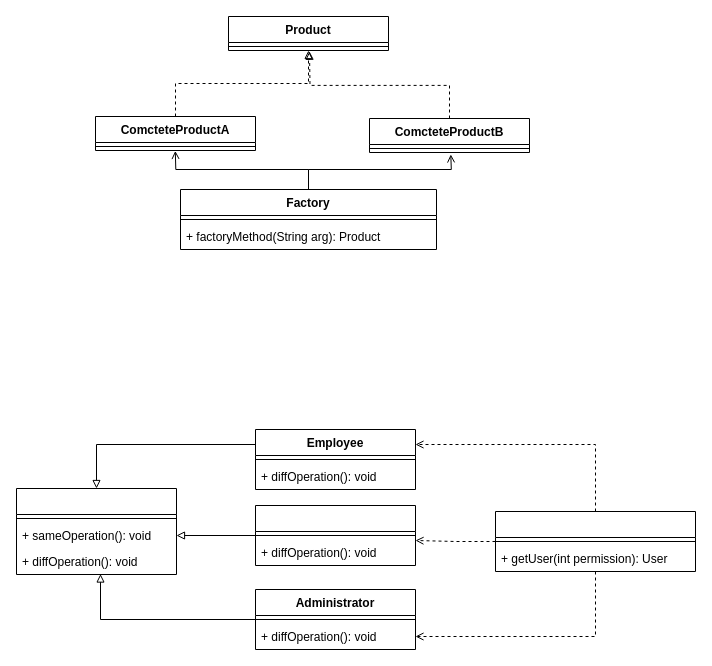
The diagram is 712 pixels wide and 666 high, and some of its shapes have lost their labels. The shapes that lost their labels are listed below. From the top down, each one's box as (x1, y1, x2, y2) in pixels, then its label:
(16, 488, 176, 574): User
(254, 504, 416, 566): Manager
(494, 510, 696, 572): UserFactory
